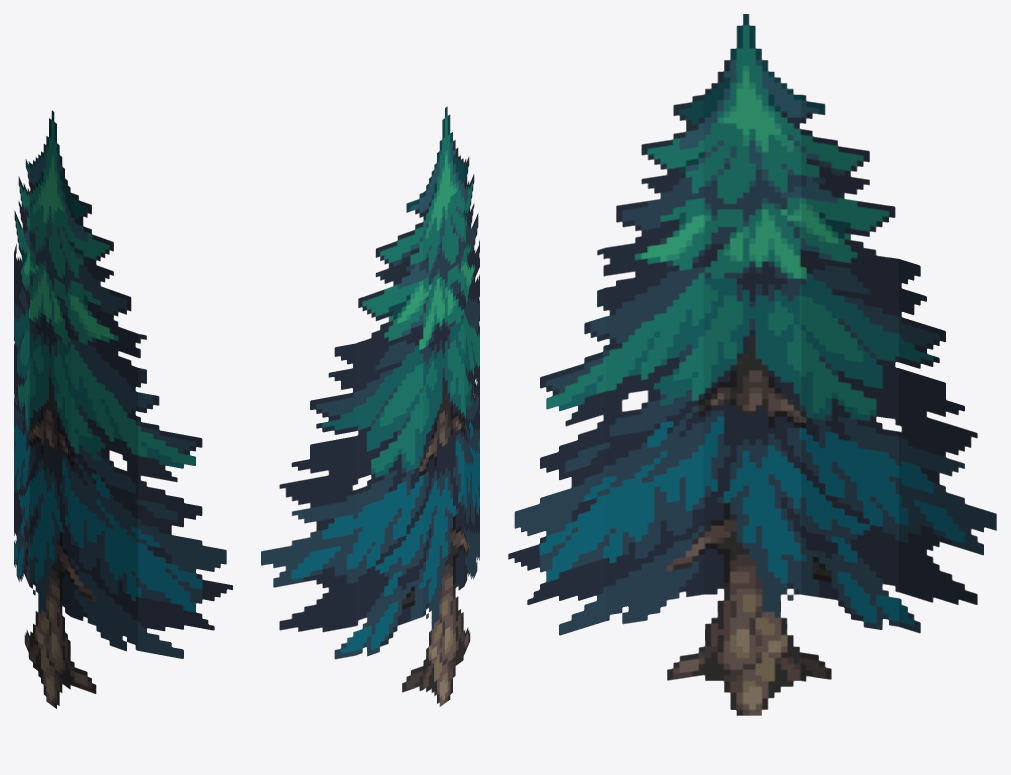
Rendered from Boompje2.5.fbx.
The picture shows the model from 3 angles, left to right: view 1: azimuth 30°, elevation 25°; view 2: azimuth 150°, elevation 25°; view 3: azimuth 270°, elevation 25°; orthographic projection. The views are drawn at different scales.
Parts seen in each view (by area): view 1: Naaldboom3; view 2: Naaldboom3; view 3: Naaldboom3.
Boxes of the visible parts, x1,y1,x2,y2 form: Naaldboom3: (14, 110, 232, 708); Naaldboom3: (261, 106, 479, 706); Naaldboom3: (508, 14, 996, 715).
Bounding box in the file's own units: 90.77 × 654 × 413.
Materials: 1 (1 with a texture image).
